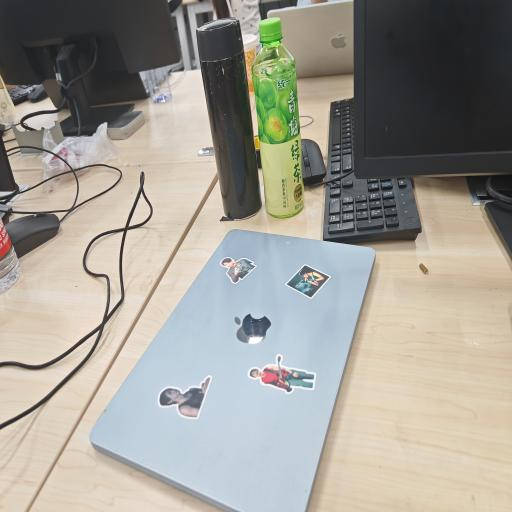laptop: (90, 230, 375, 512), (268, 0, 354, 78)
mouse: (4, 212, 60, 258), (301, 138, 326, 186), (28, 84, 48, 103)
